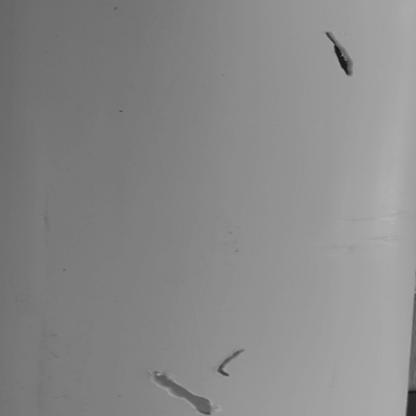fengxi: (152, 370, 213, 416), (213, 346, 248, 375)
kongdong: (326, 31, 356, 78)
